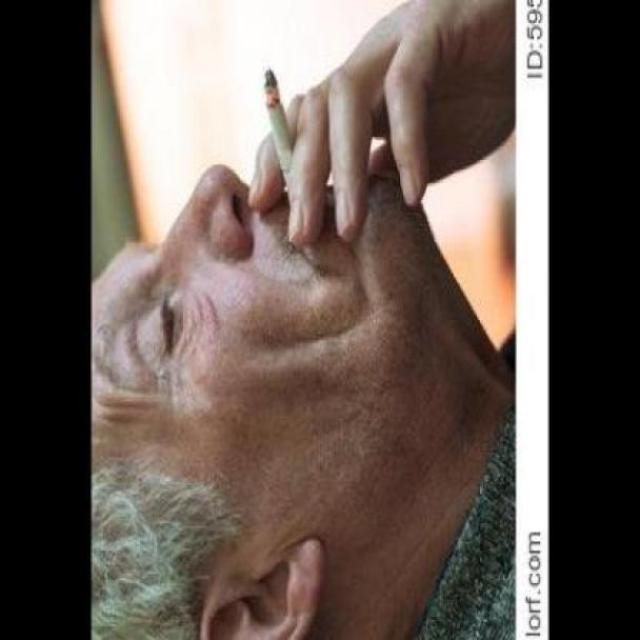rokok: (260, 61, 314, 236)
